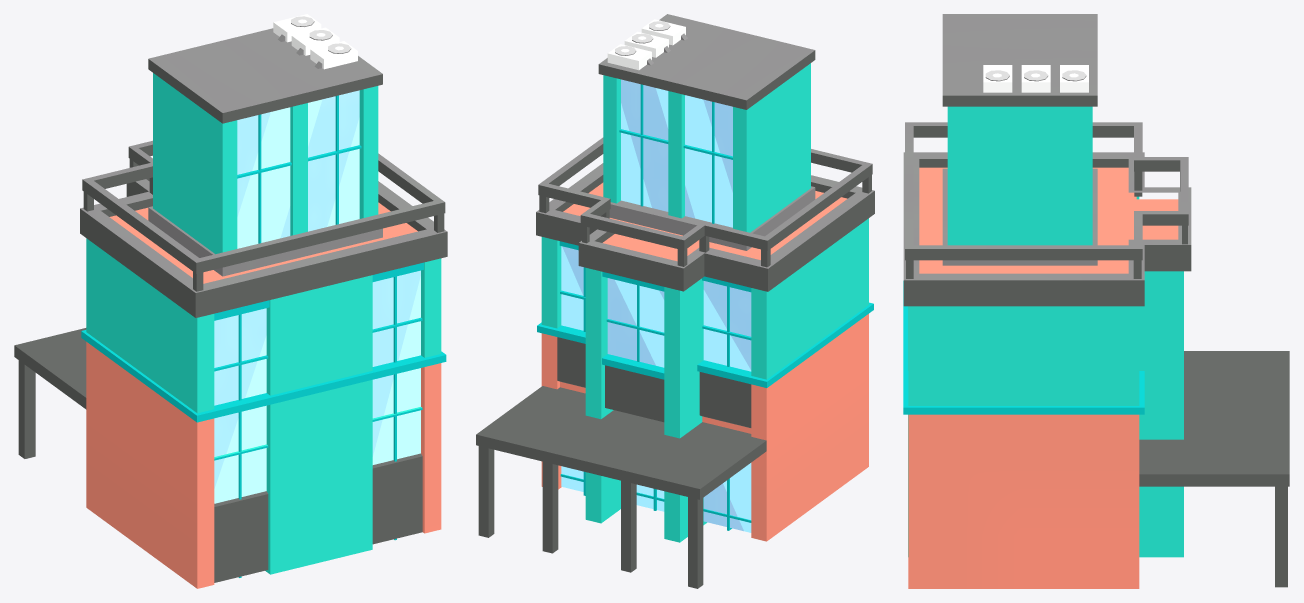
Rendered from hotel.002.glb.
3 renders of one model, left to right at view 1: azimuth 30°, elevation 25°; view 2: azimuth 150°, elevation 25°; view 3: azimuth 270°, elevation 25°, orthographic. The views are drawn at different scales.
Visible parts, largest first — view 1: hotel.002(Clone); view 2: hotel.002(Clone); view 3: hotel.002(Clone).
Part boxes in pixels (x1,y1,x2,y2): hotel.002(Clone): (14, 14, 447, 588); hotel.002(Clone): (476, 14, 874, 588); hotel.002(Clone): (903, 14, 1289, 588).
Bounding box in the file's own units: 5.97 × 10.59 × 7.61.
Materials: 1 (1 with a texture image).
